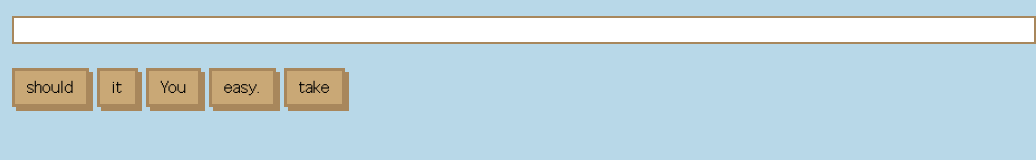
WordOrderChallenge › shows the assembled sentence as tokens are tapped
The image size is (1036, 160).
Click the button "You".
click(174, 88)  # box [146,68,201,107]
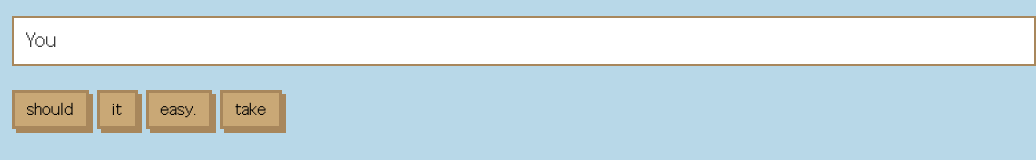
Click the button "should".
click(50, 110)  # box [12,90,89,129]
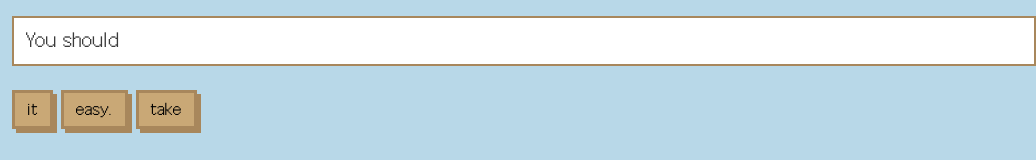
Now the text "You should" is shown, box [12,16,1035,66]
